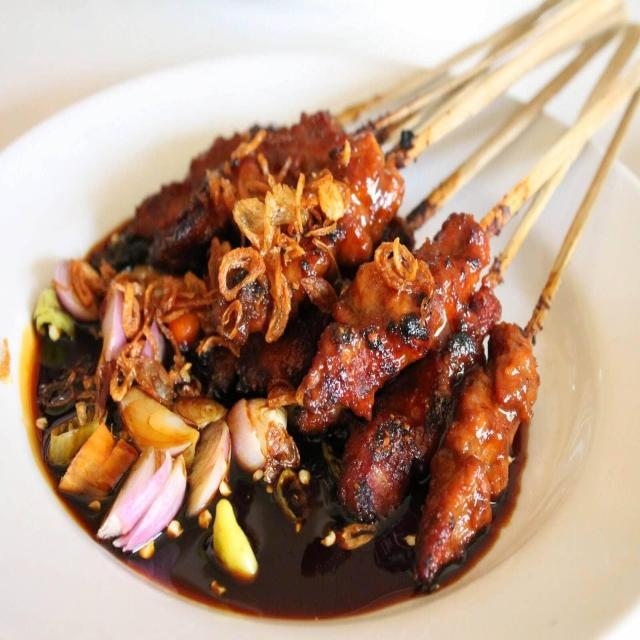Sate: (146, 12, 614, 552)
